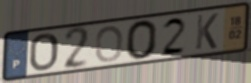2: (62, 24, 91, 74), (159, 16, 189, 56)
K: (194, 12, 220, 52)
O: (125, 18, 159, 62), (28, 31, 60, 73), (94, 24, 124, 64)
